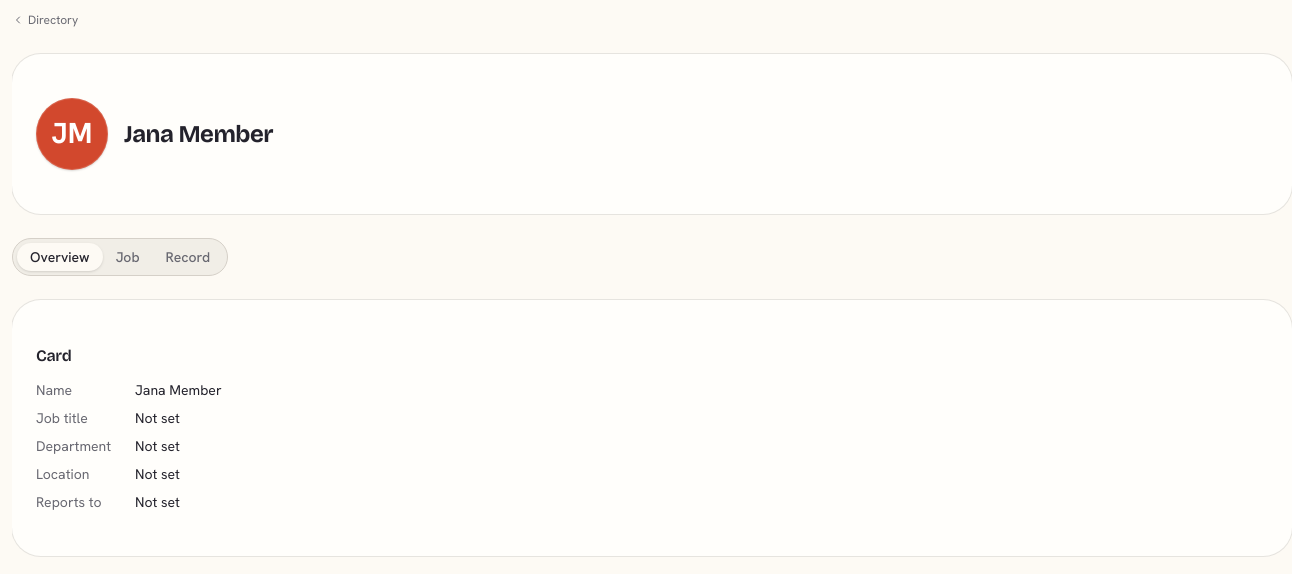
it: ProfileScreen › shows a Job reader the spell without the account facts
This screenshot has width=1292, height=574.
Click the tab "Record". click: (188, 257)
box: 153,243 -> 223,271
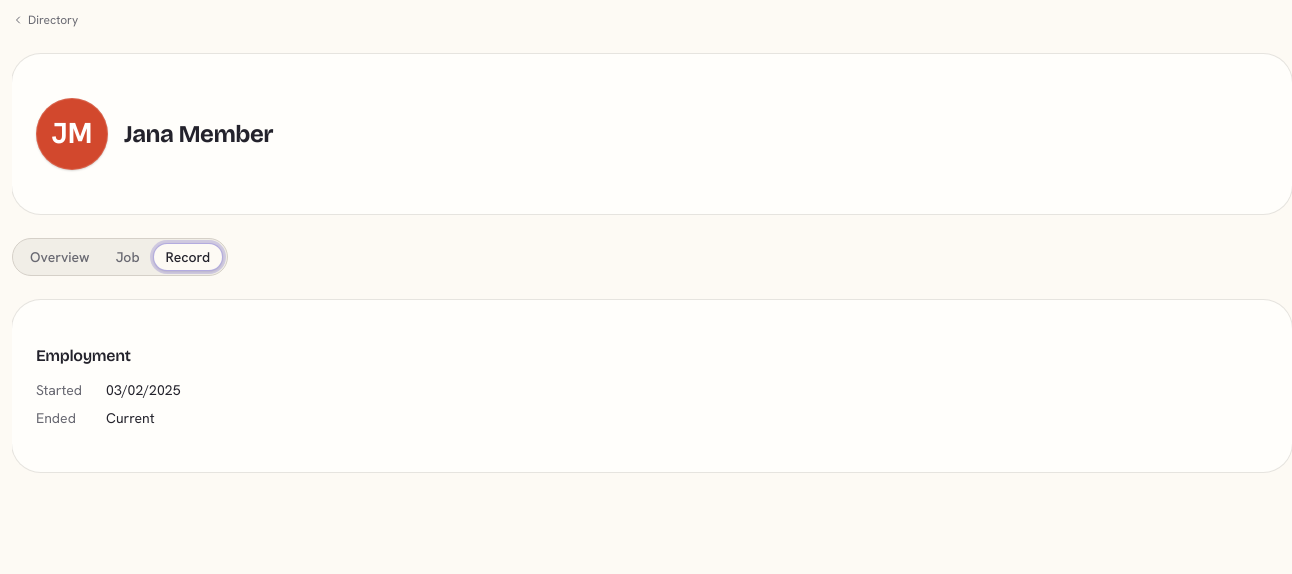
Check: the element "Employment" is shown, box 12,300 -> 1291,472
